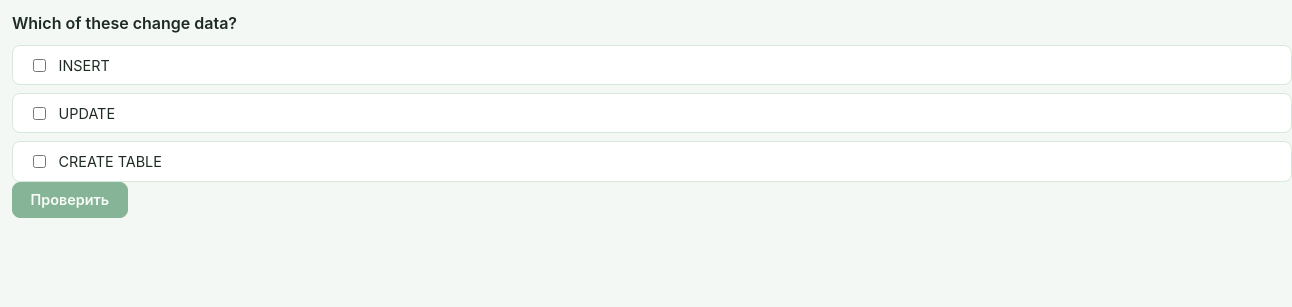
Test case: QuizView with a multi-select quiz › explains a correct-but-incomplete set without revealing which options are missing
Click the checkbox labelled "INSERT".
click(40, 65)  # box left=33, top=59, right=46, bottom=72
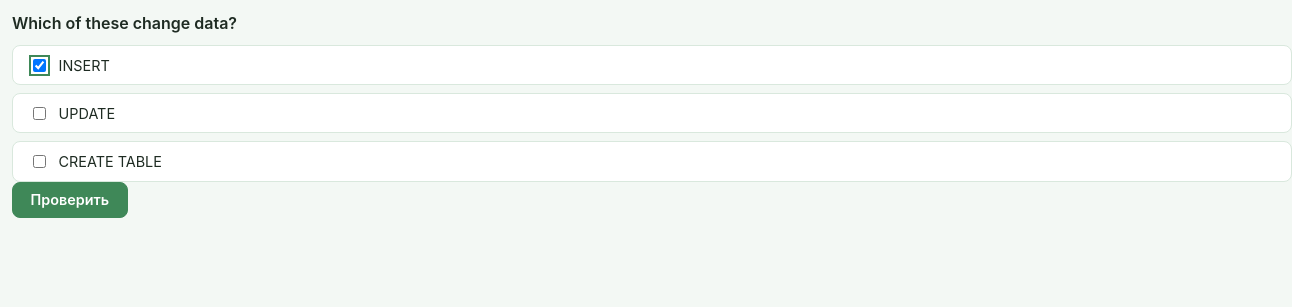
Click the button "Проверить".
click(70, 200)  # box left=12, top=182, right=128, bottom=218
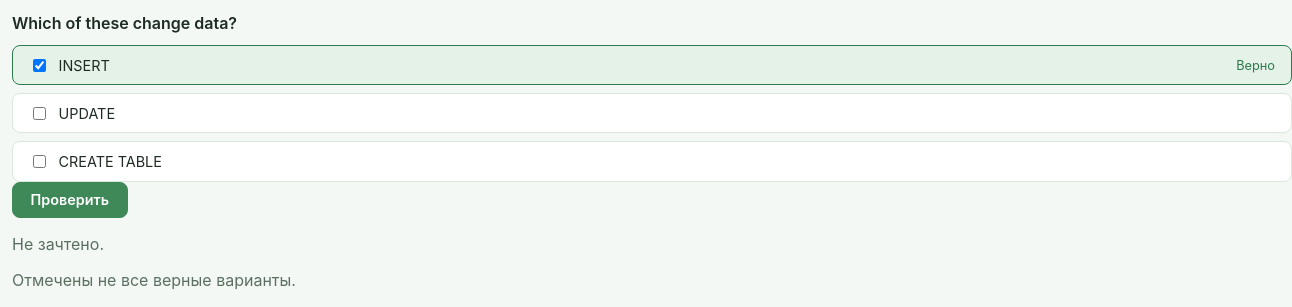
Expected: the text "Отмечены не все верные варианты." is shown, left=12, top=270, right=296, bottom=290
